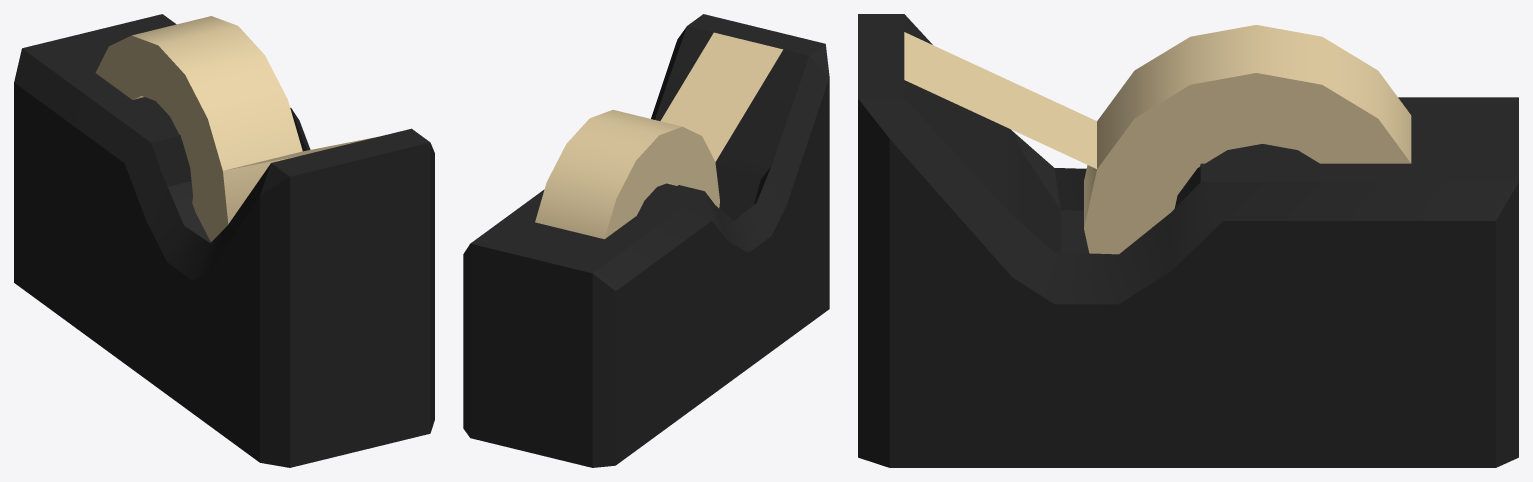
File: TapeDispensor.fbx
3 views of the same model, side by side, from view 1: azimuth 30°, elevation 25°; view 2: azimuth 150°, elevation 25°; view 3: azimuth 270°, elevation 25° (orthographic). The views are drawn at different scales.
Visible parts, largest first — view 1: Cube, Cylinder; view 2: Cube, Cylinder; view 3: Cube, Cylinder.
Part boxes in pixels (box(x1,y1,x2,y2)): Cube: box(14, 14, 434, 467); Cylinder: box(95, 16, 376, 241); Cube: box(463, 14, 829, 467); Cylinder: box(535, 32, 783, 239); Cube: box(858, 14, 1518, 467); Cylinder: box(904, 25, 1411, 254).
Size of the model in its own units: 183 by 296 by 485.
